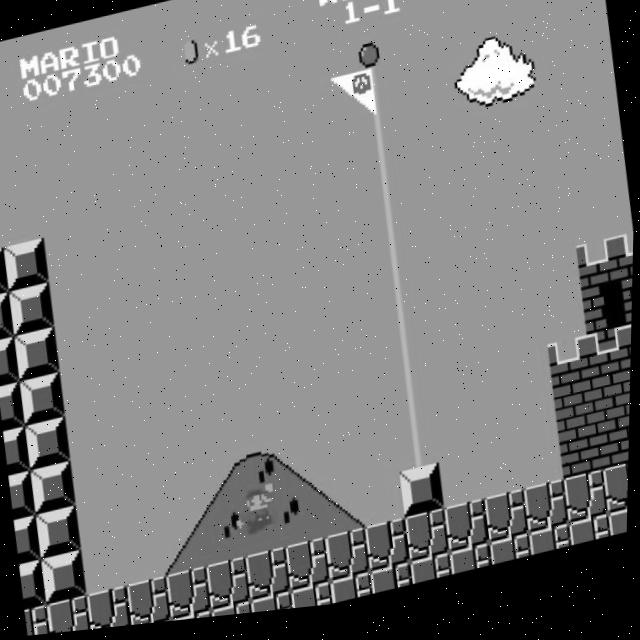11- little_mario: (231, 486, 281, 545)
17- undestructible_block: (207, 561, 255, 616), (247, 552, 295, 607), (287, 543, 335, 598), (366, 526, 414, 581), (406, 517, 454, 572), (485, 499, 533, 554), (525, 490, 573, 545), (565, 482, 613, 537), (167, 570, 215, 624), (326, 535, 374, 589), (446, 508, 493, 563), (128, 579, 176, 629), (88, 587, 136, 632), (49, 596, 96, 635), (332, 579, 377, 611), (451, 553, 496, 585), (491, 544, 536, 576), (570, 526, 615, 558), (604, 475, 631, 528), (412, 562, 456, 594), (372, 571, 416, 602), (531, 536, 575, 567), (293, 588, 337, 615), (253, 597, 297, 618), (27, 605, 55, 637), (213, 606, 257, 622), (610, 520, 630, 549), (174, 614, 218, 625)
7- goal_pole: (345, 24, 393, 79), (350, 69, 398, 124), (367, 204, 415, 259), (372, 248, 420, 303), (361, 159, 409, 213), (378, 293, 426, 347), (389, 383, 437, 437), (384, 338, 431, 393), (395, 427, 442, 482), (356, 115, 403, 169)
9- hard_block: (15, 327, 63, 382), (26, 417, 74, 472), (37, 507, 85, 562), (43, 551, 91, 606), (400, 472, 448, 527), (4, 238, 52, 292), (32, 462, 80, 516), (10, 283, 57, 338), (21, 372, 68, 426), (4, 426, 33, 477), (21, 560, 50, 611), (10, 471, 39, 521), (16, 515, 44, 566), (0, 381, 28, 431), (0, 336, 22, 388), (0, 291, 16, 342), (0, 247, 11, 296)
